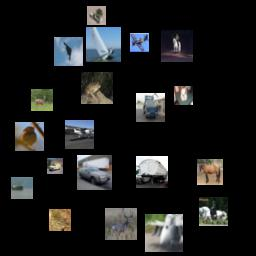airplane: (145, 214, 183, 252), (65, 120, 94, 149), (54, 37, 83, 66), (130, 33, 149, 52)
automobile: (77, 155, 112, 190)
bird: (15, 122, 44, 151), (49, 209, 71, 231)
deer: (105, 208, 137, 240), (31, 89, 53, 111)
dog: (174, 86, 193, 105)
frog: (81, 72, 113, 104)
ship: (86, 27, 121, 62), (11, 177, 33, 199)
truck: (136, 156, 168, 188), (136, 93, 165, 122), (87, 6, 106, 25), (47, 158, 63, 174)
